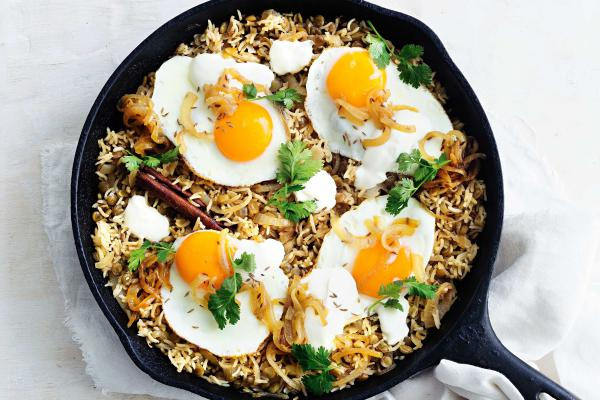fried egg: (305, 38, 452, 183), (289, 198, 426, 353), (157, 52, 300, 187), (163, 235, 291, 357)
